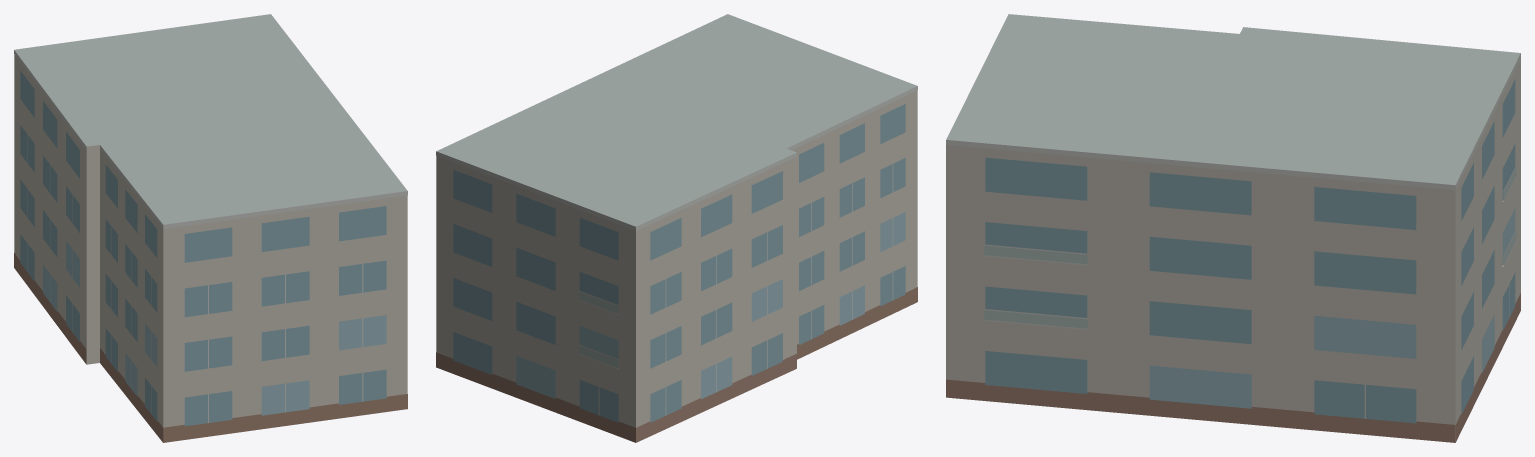
Rendered from survey-upis-32858238.glb.
The picture shows the model from 3 angles, left to right: view 1: azimuth 30°, elevation 25°; view 2: azimuth 150°, elevation 25°; view 3: azimuth 270°, elevation 25°; orthographic projection. The views are drawn at different scales.
Visible parts, largest first — view 1: survey-upis-32858238.tmp; view 2: survey-upis-32858238.tmp; view 3: survey-upis-32858238.tmp.
Boxes of the visible parts, bbox=[...] form: survey-upis-32858238.tmp: bbox=[14, 14, 407, 442]; survey-upis-32858238.tmp: bbox=[436, 14, 917, 442]; survey-upis-32858238.tmp: bbox=[946, 14, 1520, 442].
Size of the model in its own units: 17.53 by 12.3 by 24.87.
